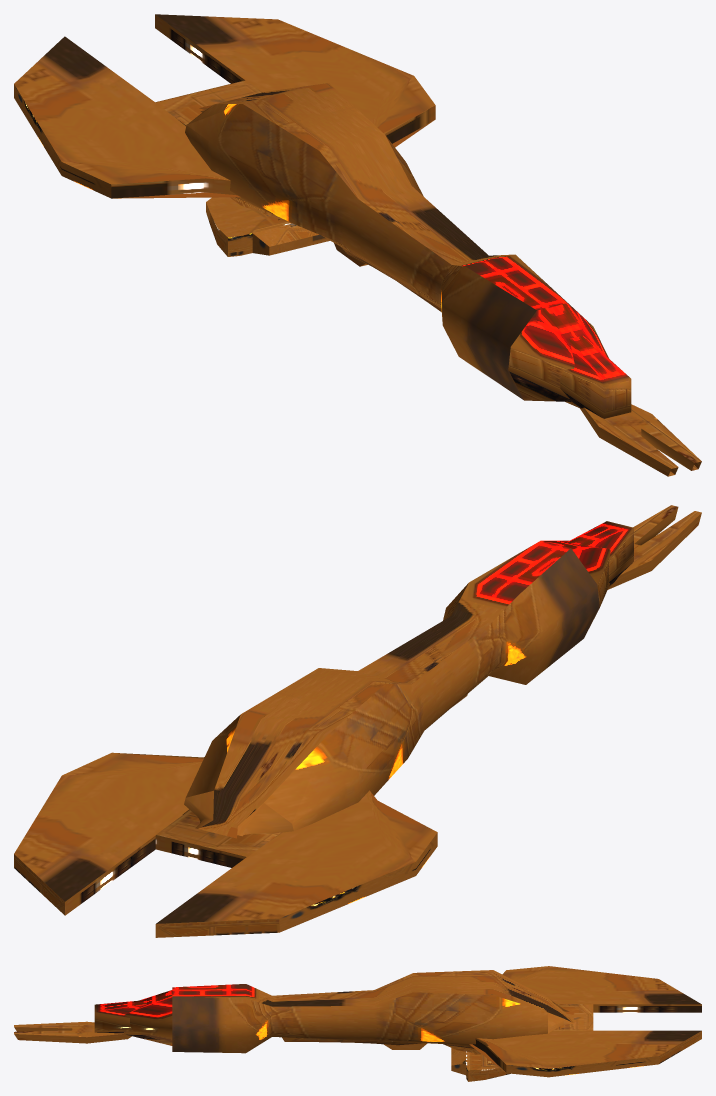
The model's file is Car_Vasad.fbx.
The picture shows the model from 3 angles, top to bottom: view 1: azimuth 30°, elevation 25°; view 2: azimuth 150°, elevation 25°; view 3: azimuth 270°, elevation 25°; orthographic projection. The views are drawn at different scales.
Parts seen in each view (by area): view 1: Car_Vasad; view 2: Car_Vasad; view 3: Car_Vasad.
Part boxes in pixels (x1,y1,x2,y2): Car_Vasad: [14, 14, 701, 476]; Car_Vasad: [14, 505, 701, 937]; Car_Vasad: [14, 966, 701, 1081].
Bounding box in the file's own units: 209 × 80.52 × 591.
Materials: 1 (1 with a texture image).
